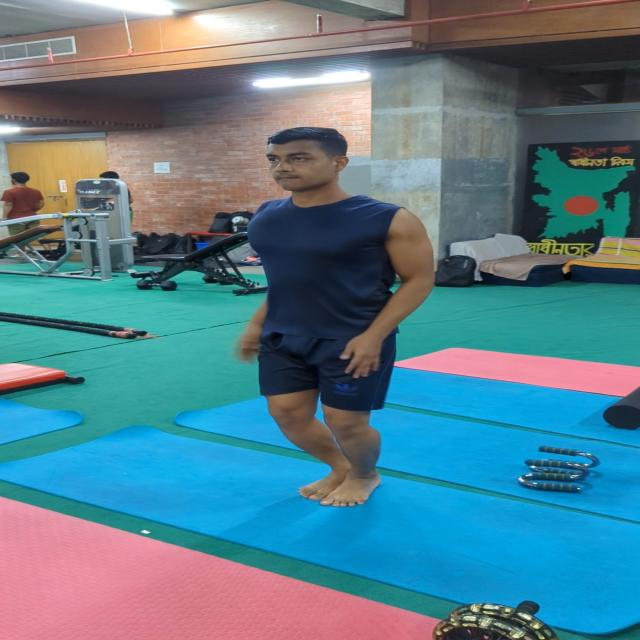Normal_JumpingJacks: (138, 143, 551, 502)
